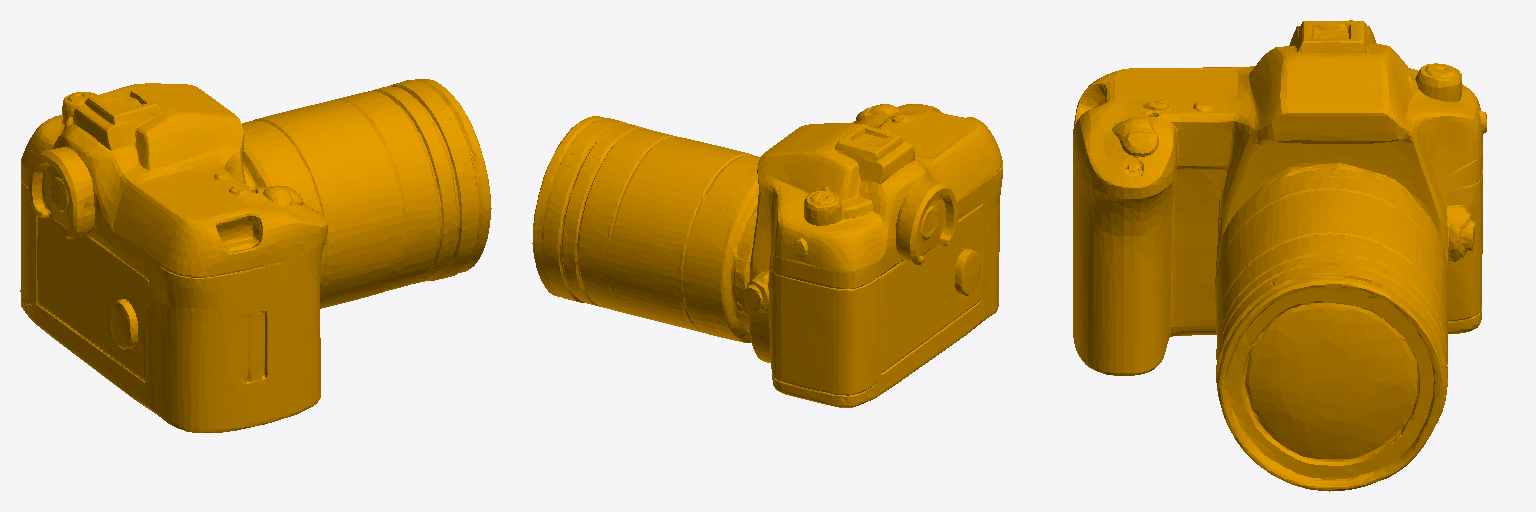
robot.urdf — sample:
<?xml version="1.0" ?>
<robot name="sample">
   <link name="sample">
      <visual>
         <origin xyz="0 0 0" rpy="1.5708 0.0 0.0"/>
         <geometry>
            <mesh filename="mesh/sample.obj" scale="1.0 1.0 1.0"/>
         </geometry>
      </visual>
      <collision>
         <origin xyz="0 0 0" rpy="1.5708 0.0 0.0"/>
         <geometry>
            <mesh filename="mesh/sample_collision.obj" scale="1.0 1.0 1.0"/>
         </geometry>
         <gazebo>
            <mu1>0.70</mu1>
            <mu2>0.55</mu2>
         </gazebo>
      </collision>
      <inertial>
         <mass value="1.0000"/>
         <origin xyz="0 0 0"/>
         <inertia ixx="1.0" ixy="0.0" ixz="0.0" iyy="1.0" iyz="0.0" izz="1.0"/>
      </inertial>
      <extra_info>
         <scale>0.220412</scale>
         <version>v0.1.7</version>
         <category>camera</category>
         <description>professional dslr camera with large lens and grip</description>
         <min_height>0.12</min_height>
         <max_height>0.15</max_height>
         <real_height>0.135</real_height>
         <min_mass>0.8</min_mass>
         <max_mass>1.2</max_mass>
         <color>black</color>
         <rgba>[0.1, 0.1, 0.1, 1.0]</rgba>
         <generate_time>20260610162643</generate_time>
         <gs_model>mesh/sample_gs.ply</gs_model>
      </extra_info>
   </link>
   <custom_data>
      <quality>
         <MeshGeoChecker>YES</MeshGeoChecker>
         <ImageSegChecker>YES</ImageSegChecker>
         <ImageAestheticChecker>4.5833576917648315</ImageAestheticChecker>
         <overall>YES</overall>
      </quality>
   </custom_data>
</robot>

--- Facts derived from the render (not from the file) ---
3 views of the same robot in one strip: view 1: azimuth 30°, elevation 25°; view 2: azimuth 150°, elevation 25°; view 3: azimuth 270°, elevation 25° (orthographic).
Model sample with 1 links and 0 joints (none), rooted at sample, posed all joints at 0.
Visible links, largest first — view 1: sample; view 2: sample; view 3: sample.
Link boxes in pixels (left/top/right/bottom): sample: left=20, top=79, right=491, bottom=432; sample: left=532, top=104, right=1002, bottom=407; sample: left=1073, top=20, right=1486, bottom=491.
Bounding box of the posed robot: 0.2204 × 0.1742 × 0.135 m (x, y, z).
Meshes: 1 distinct files referenced, 1 mesh visuals loaded (1 OBJ).
